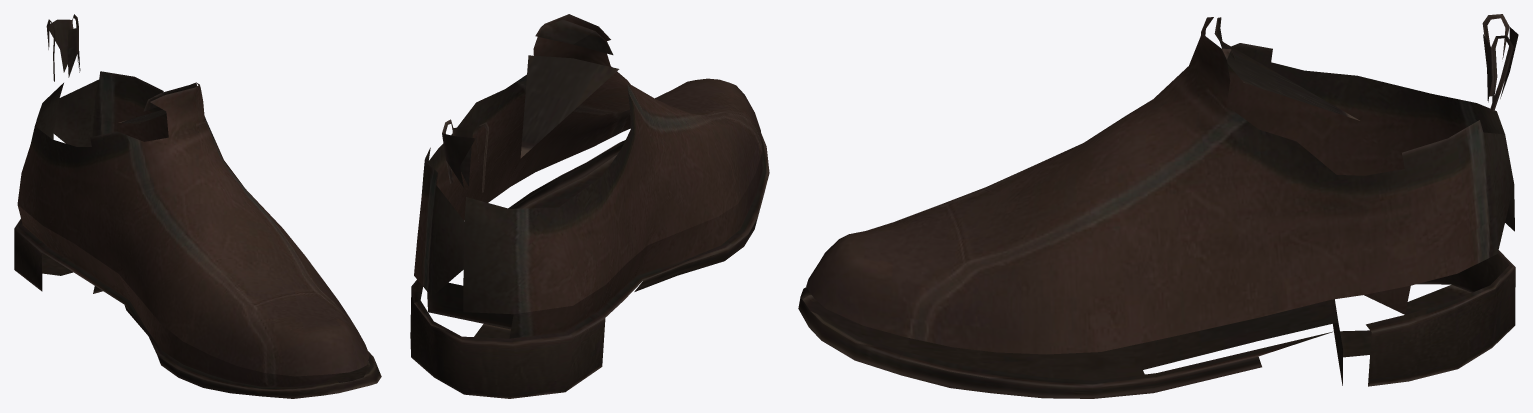
Rendered from profesor_pieizq.glb.
3 renders of one model, left to right at view 1: azimuth 30°, elevation 25°; view 2: azimuth 150°, elevation 25°; view 3: azimuth 270°, elevation 25°, orthographic. The views are drawn at different scales.
Parts seen in each view (by area): view 1: Object_28.001; view 2: Object_28.001; view 3: Object_28.001.
Part boxes in pixels (x1=…): Object_28.001: x1=14, y1=14, x2=381, y2=398; Object_28.001: x1=410, y1=14, x2=769, y2=398; Object_28.001: x1=798, y1=14, x2=1518, y2=398.
Bounding box in the file's own units: 0.0337 × 0.04 × 0.0839.
1 material, 1 textured.
